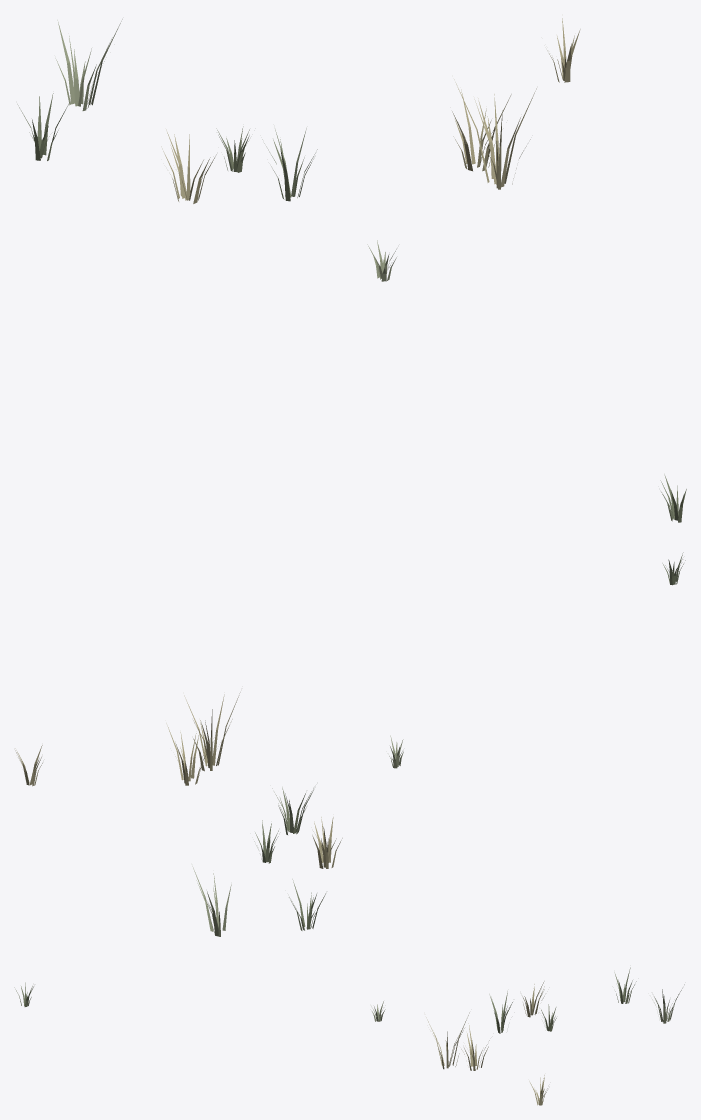
File: AE_Grass_-6_-3.fbx
3 renders of one model, top to bottom at view 1: azimuth 30°, elevation 25°; view 2: azimuth 150°, elevation 25°; view 3: azimuth 270°, elevation 25°, orthographic. The views are drawn at different scales.
Visible parts, largest first — view 1: AE_Grass_-6_-3_LOD0; view 2: AE_Grass_-6_-3_LOD0; view 3: AE_Grass_-6_-3_LOD0.
Part boxes in pixels (<box>): AE_Grass_-6_-3_LOD0: <box>17,18,686,522</box>; AE_Grass_-6_-3_LOD0: <box>15,552,685,936</box>; AE_Grass_-6_-3_LOD0: <box>14,967,684,1105</box>.
Size of what is drawn, in the model's own units: 487 by 118 by 1097.
